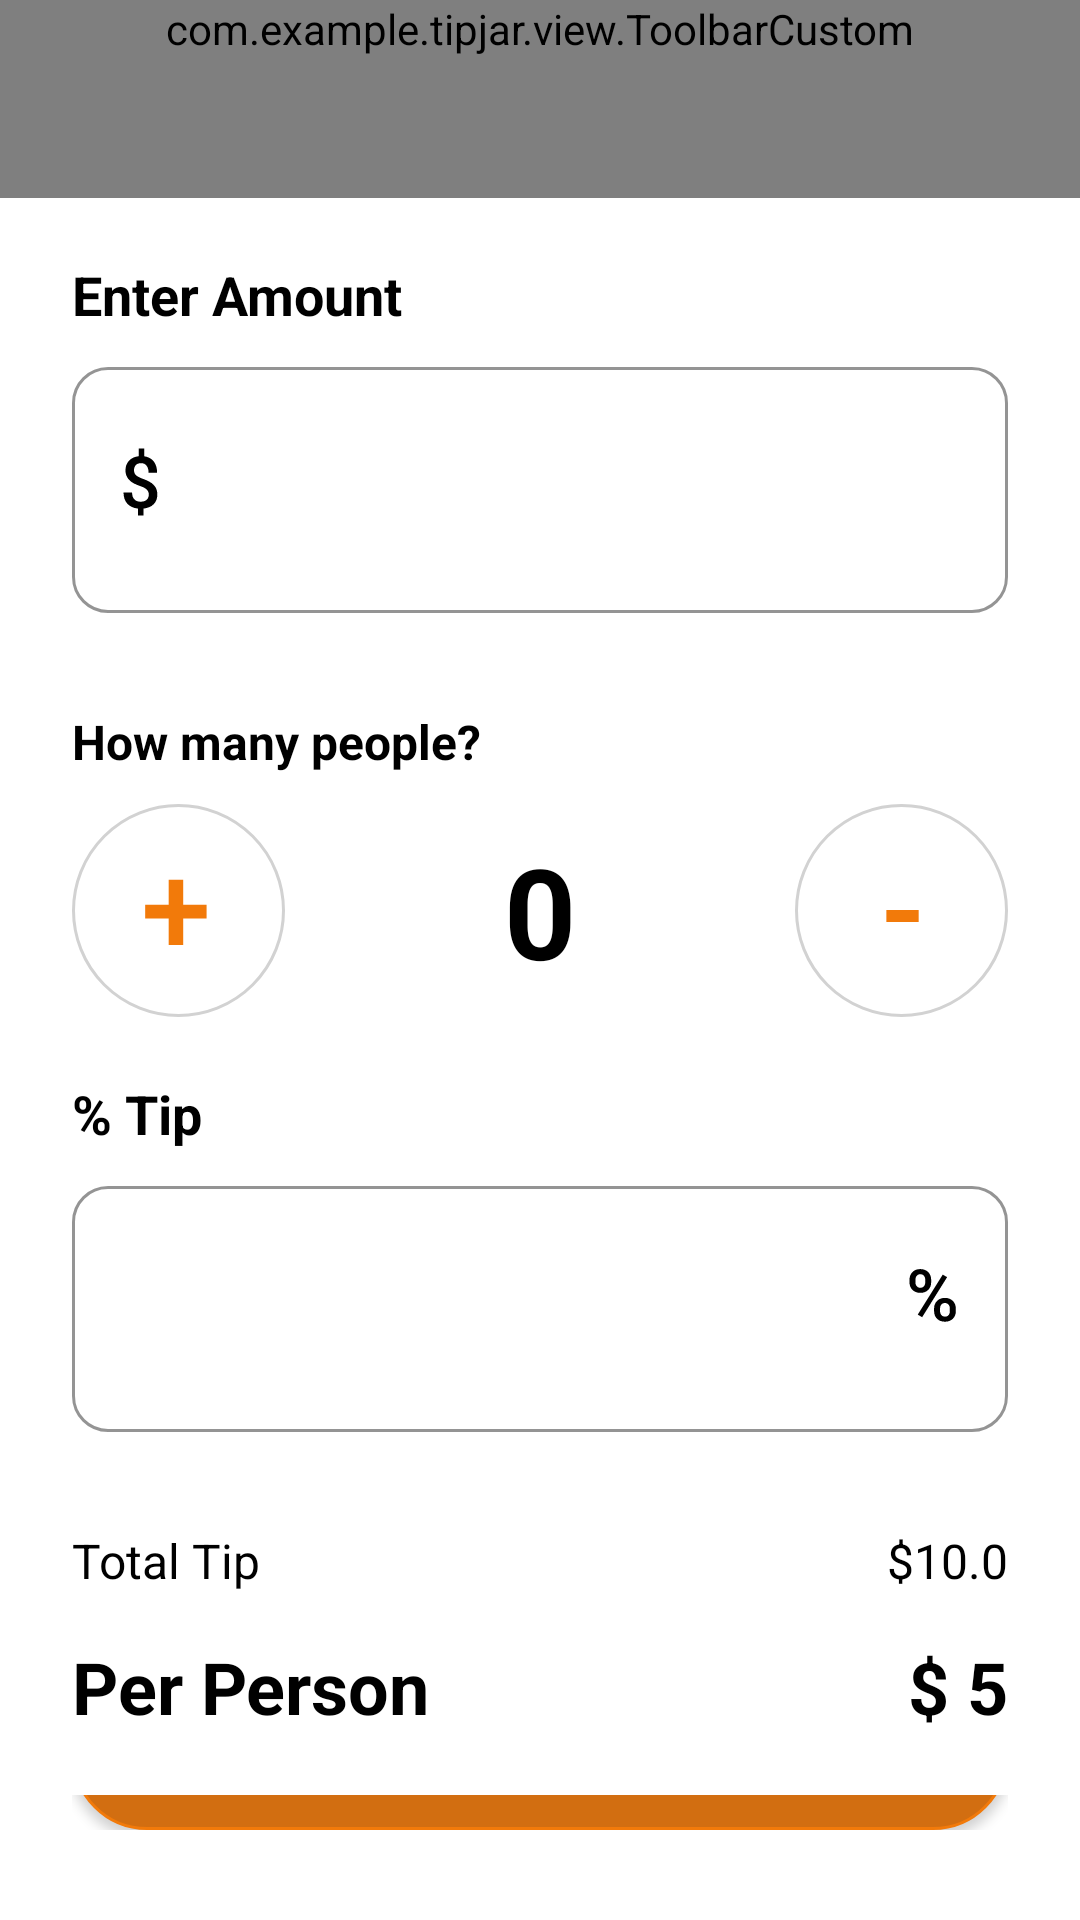

Icon bounding boxes for this 1080×1920 phone screenshot, format (x1, y1, x2, y2):
add: (72, 804, 285, 1017)
minus: (795, 804, 1008, 1017)
